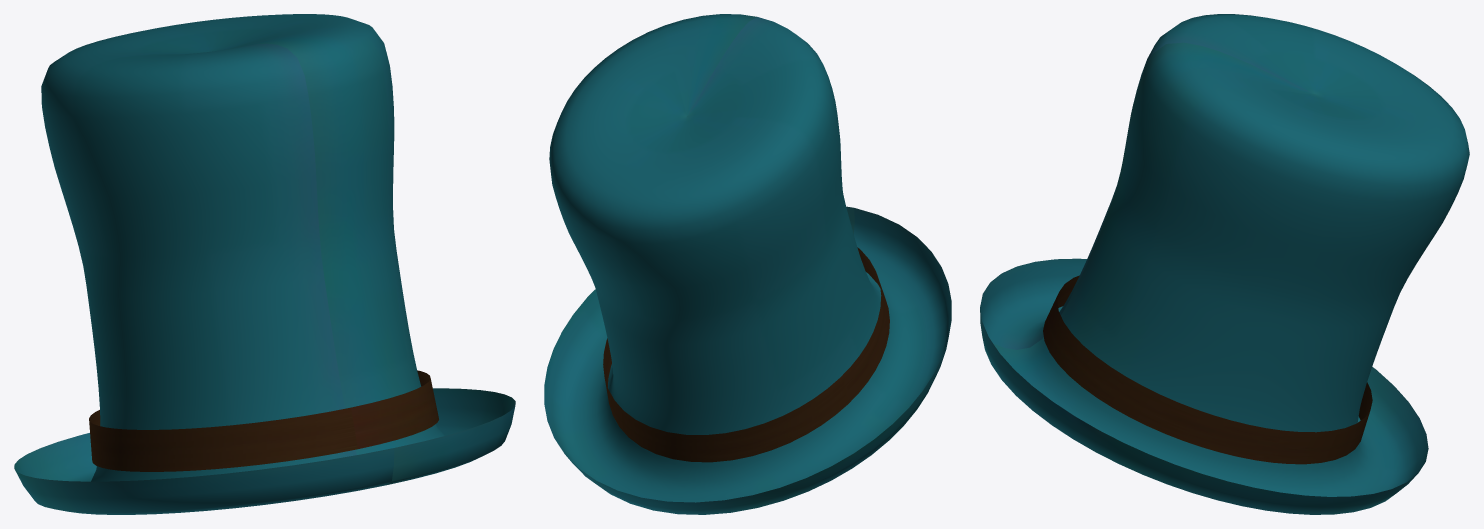
The model's file is hat.stovepipe.glb.
3 views of the same model, side by side, from view 1: azimuth 30°, elevation 25°; view 2: azimuth 150°, elevation 25°; view 3: azimuth 270°, elevation 25° (orthographic). The views are drawn at different scales.
Parts seen in each view (by area): view 1: Head; view 2: Head; view 3: Head.
Part boxes in pixels (x1=…): Head: x1=14, y1=14, x2=515, y2=514; Head: x1=544, y1=14, x2=951, y2=514; Head: x1=980, y1=14, x2=1469, y2=514.
Size of the model in its own units: 0.2991 by 0.3332 by 0.3421.
1 material, 1 textured.
